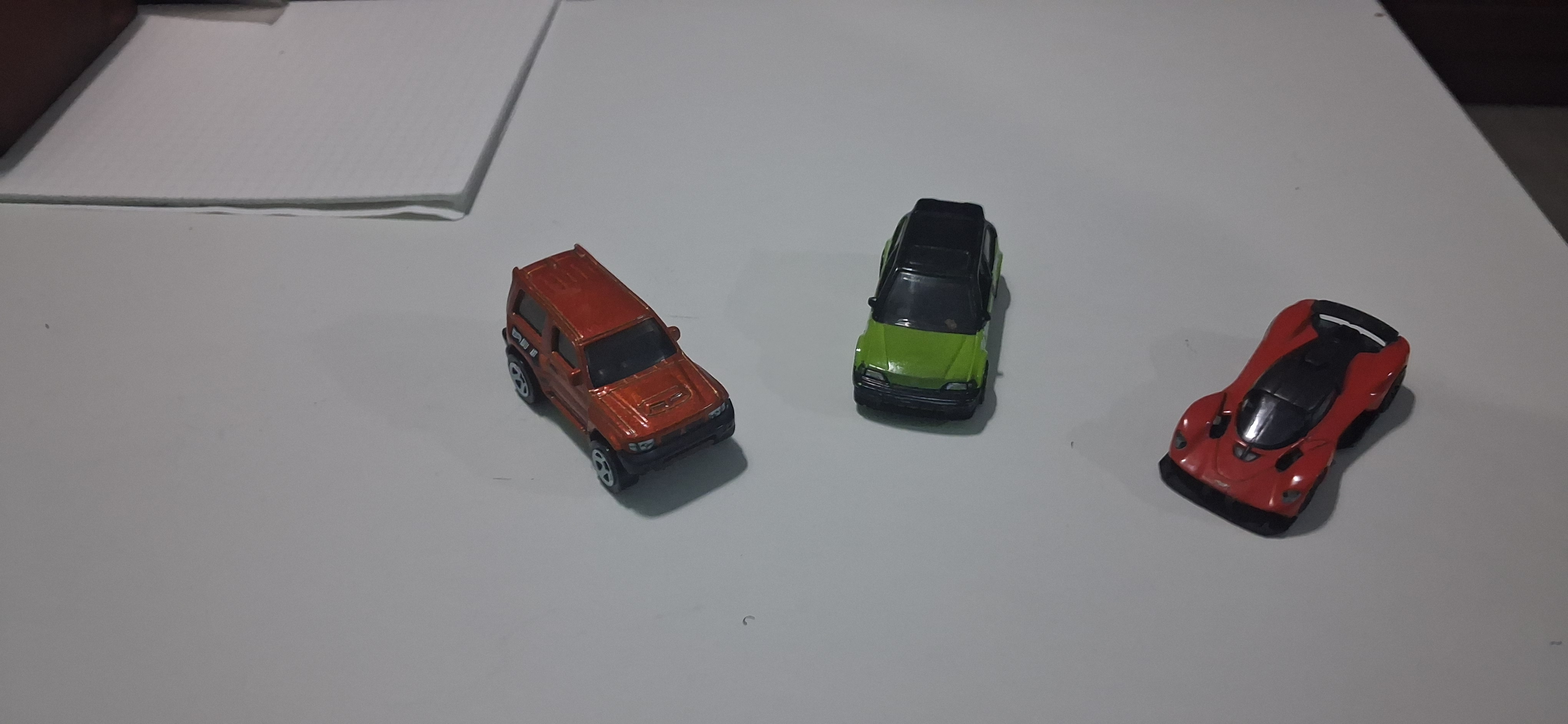Aston_Martin_Valkyrie: (1120, 297, 1437, 555)
Honda_Civic: (815, 135, 1056, 481)
Mitsubishi_Pajero_Evolution: (456, 234, 754, 523)
